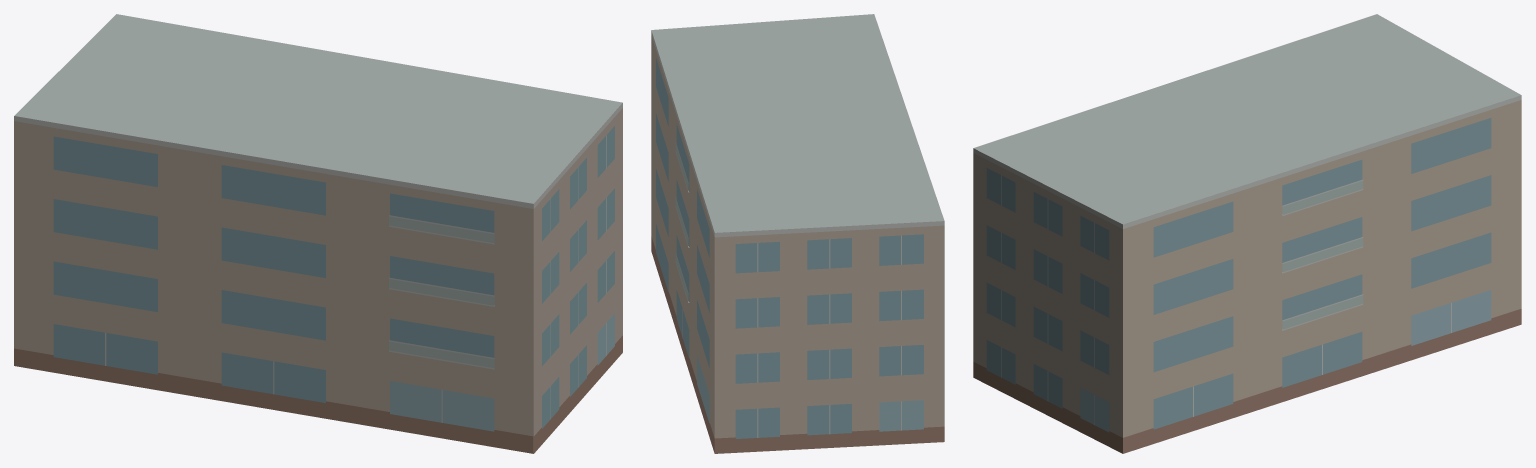
Rendered from survey-upis-32774495.glb.
3 renders of one model, left to right at view 1: azimuth 30°, elevation 25°; view 2: azimuth 150°, elevation 25°; view 3: azimuth 270°, elevation 25°, orthographic. The views are drawn at different scales.
Parts seen in each view (by area): view 1: survey-upis-32774495.tmp; view 2: survey-upis-32774495.tmp; view 3: survey-upis-32774495.tmp.
Part boxes in pixels (<box>): survey-upis-32774495.tmp: <box>14,14,622,453</box>; survey-upis-32774495.tmp: <box>651,14,944,453</box>; survey-upis-32774495.tmp: <box>973,14,1521,453</box>.
Size of the model in its own units: 23.43 by 11.9 by 25.79.
